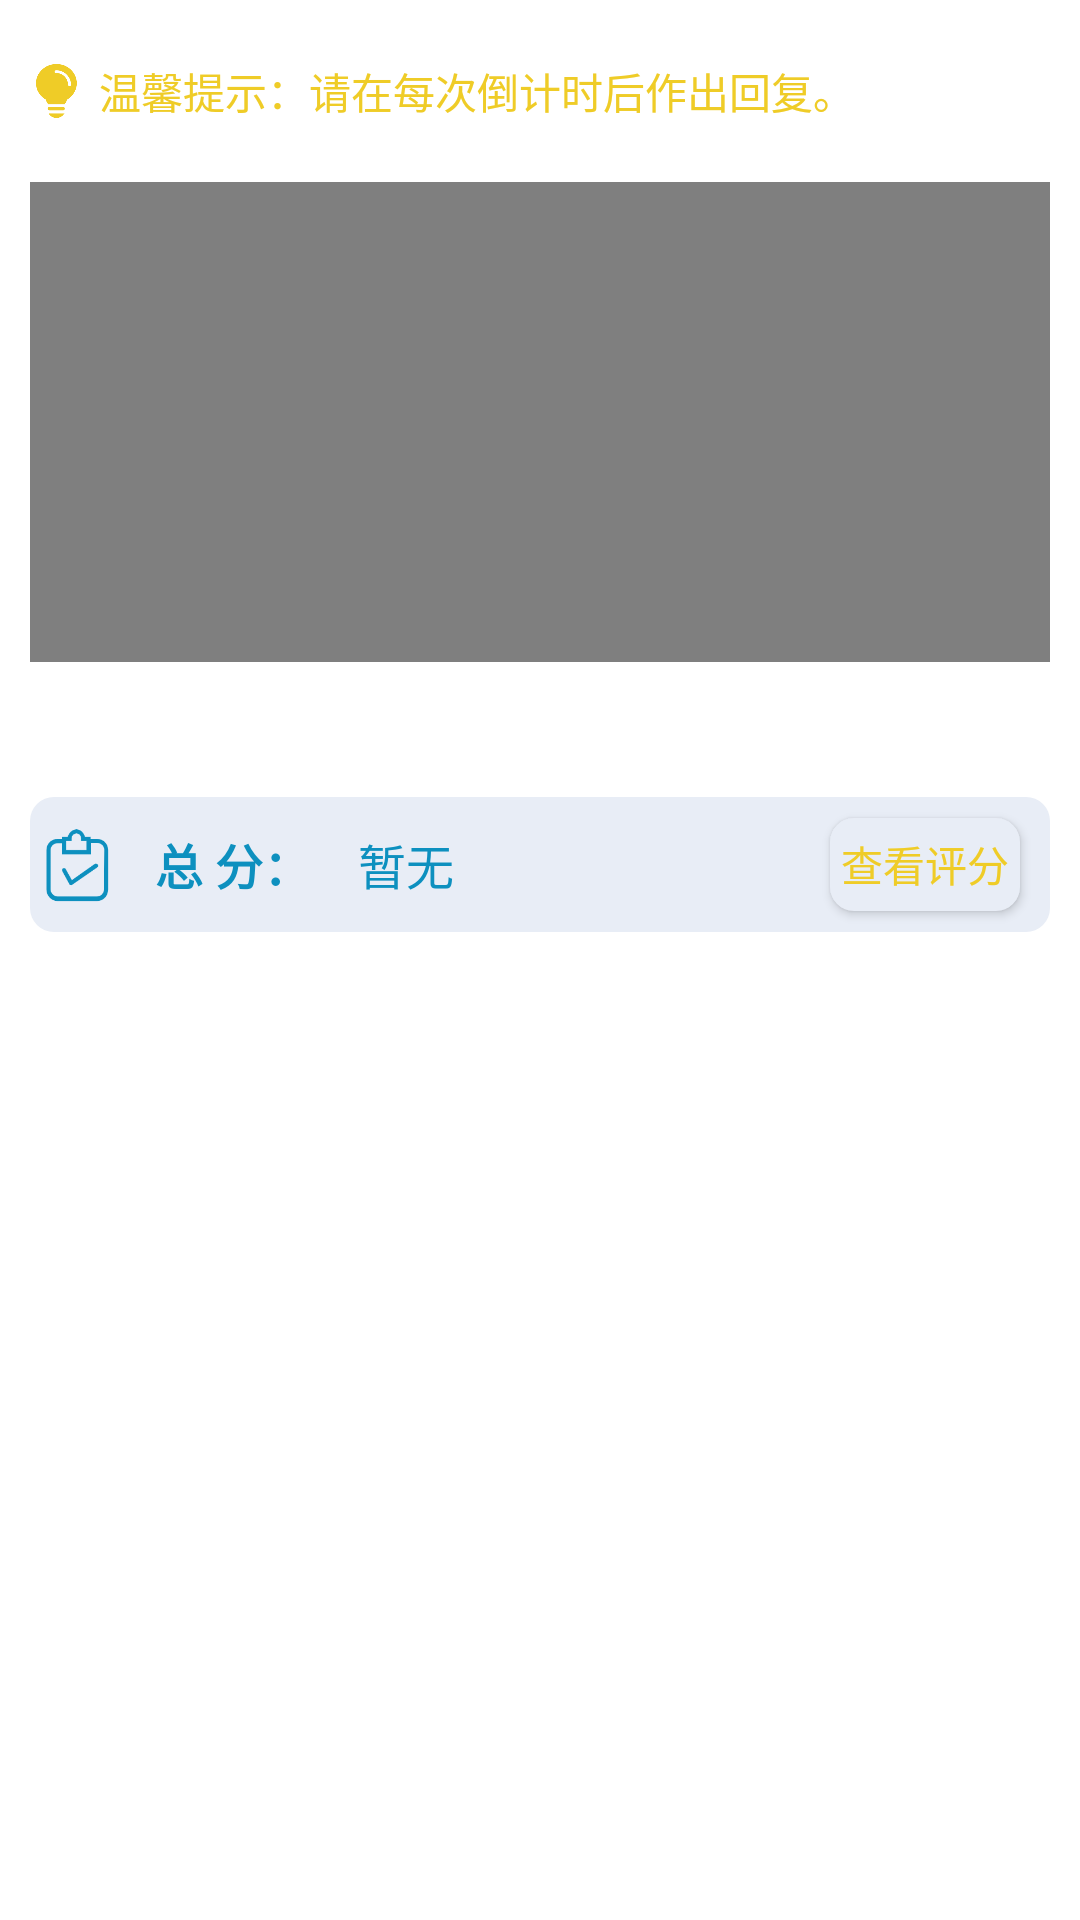

Named icons in this screenshot (1080w x 1920h) and their bounding boxes, box=[x1, y1, x2, y2]:
practice: box=[46, 829, 109, 901]
